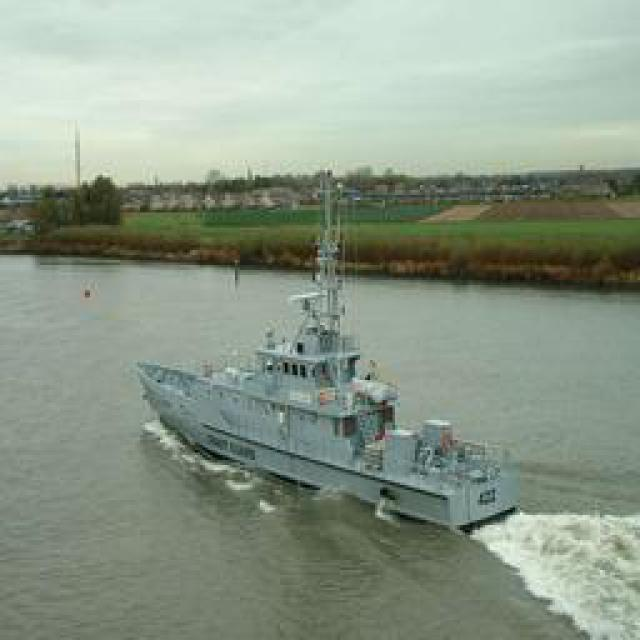Ship: (143, 220, 528, 528)
